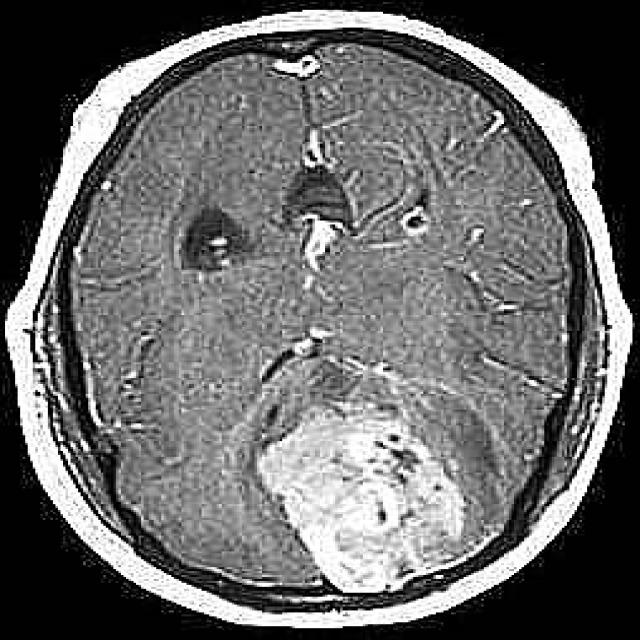Tumor-Cell: (271, 399, 463, 576)
